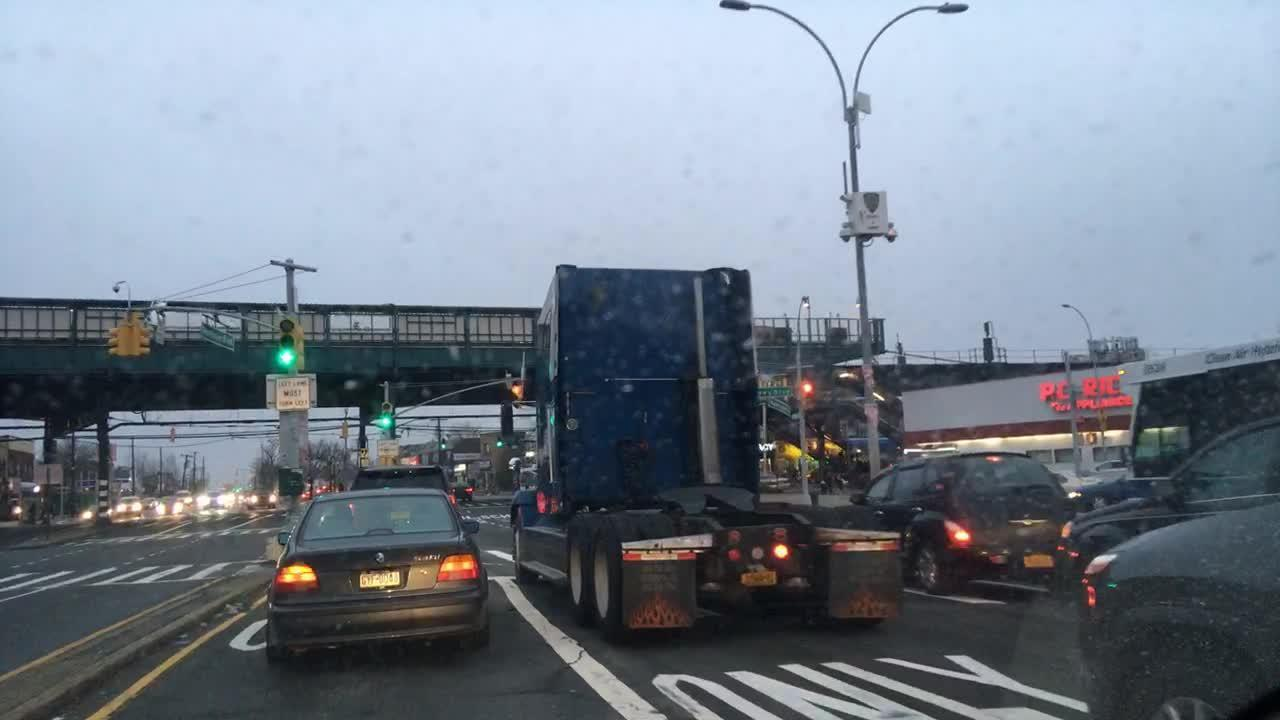bmw: (368, 545, 394, 569)
